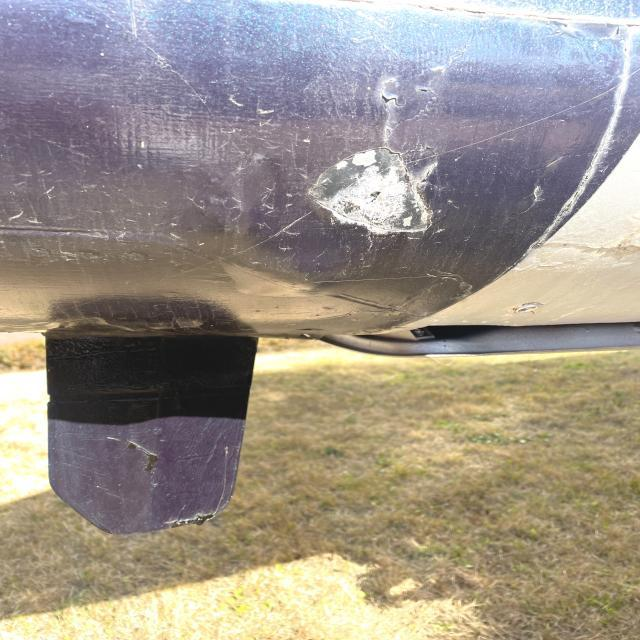crack: (365, 83, 446, 117)
dent: (283, 140, 453, 235)
